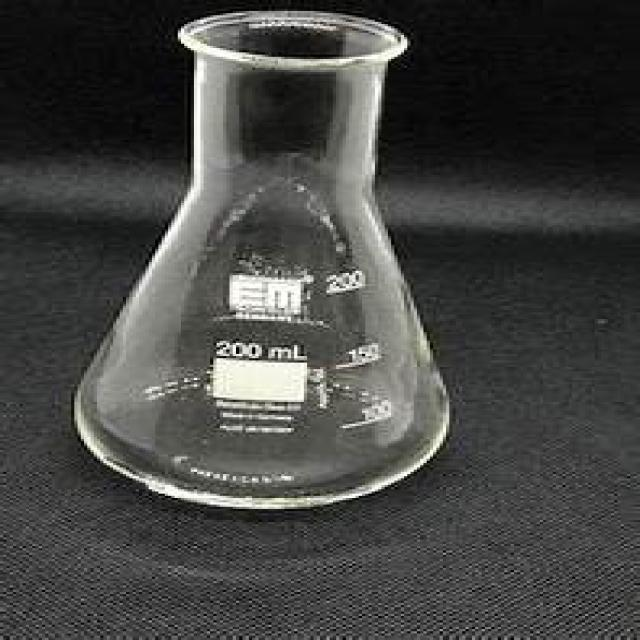Titrarion: (72, 23, 455, 515)
